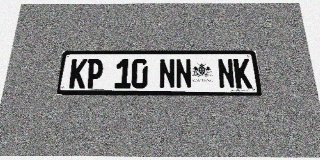0: (131, 59, 148, 89)
1: (114, 59, 132, 89)
K: (68, 59, 88, 89), (233, 58, 252, 89)
N: (217, 58, 235, 89), (175, 59, 192, 89), (159, 59, 175, 89)
P: (85, 59, 104, 89)
